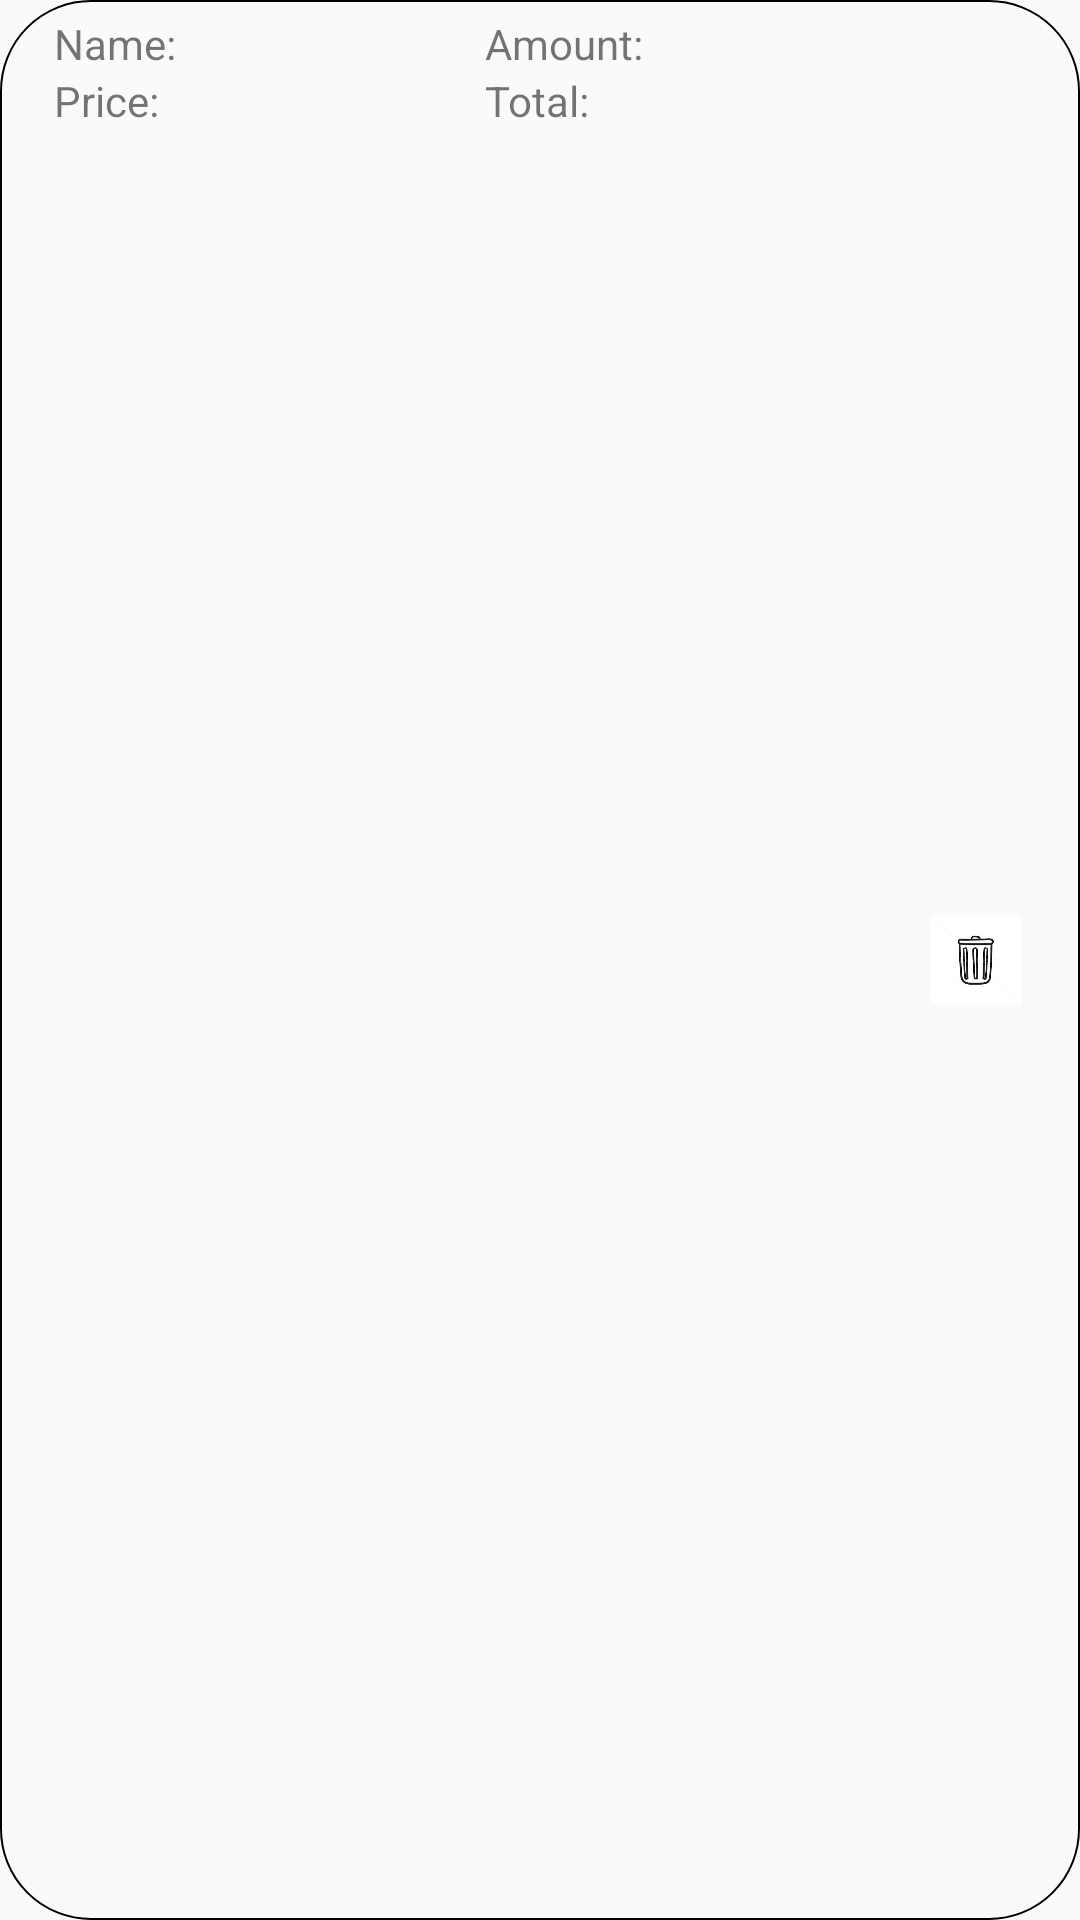

Point at icon controls on the screen. Image size 1080px x 1920px, points as (x,y).
delete item: (976,960)
